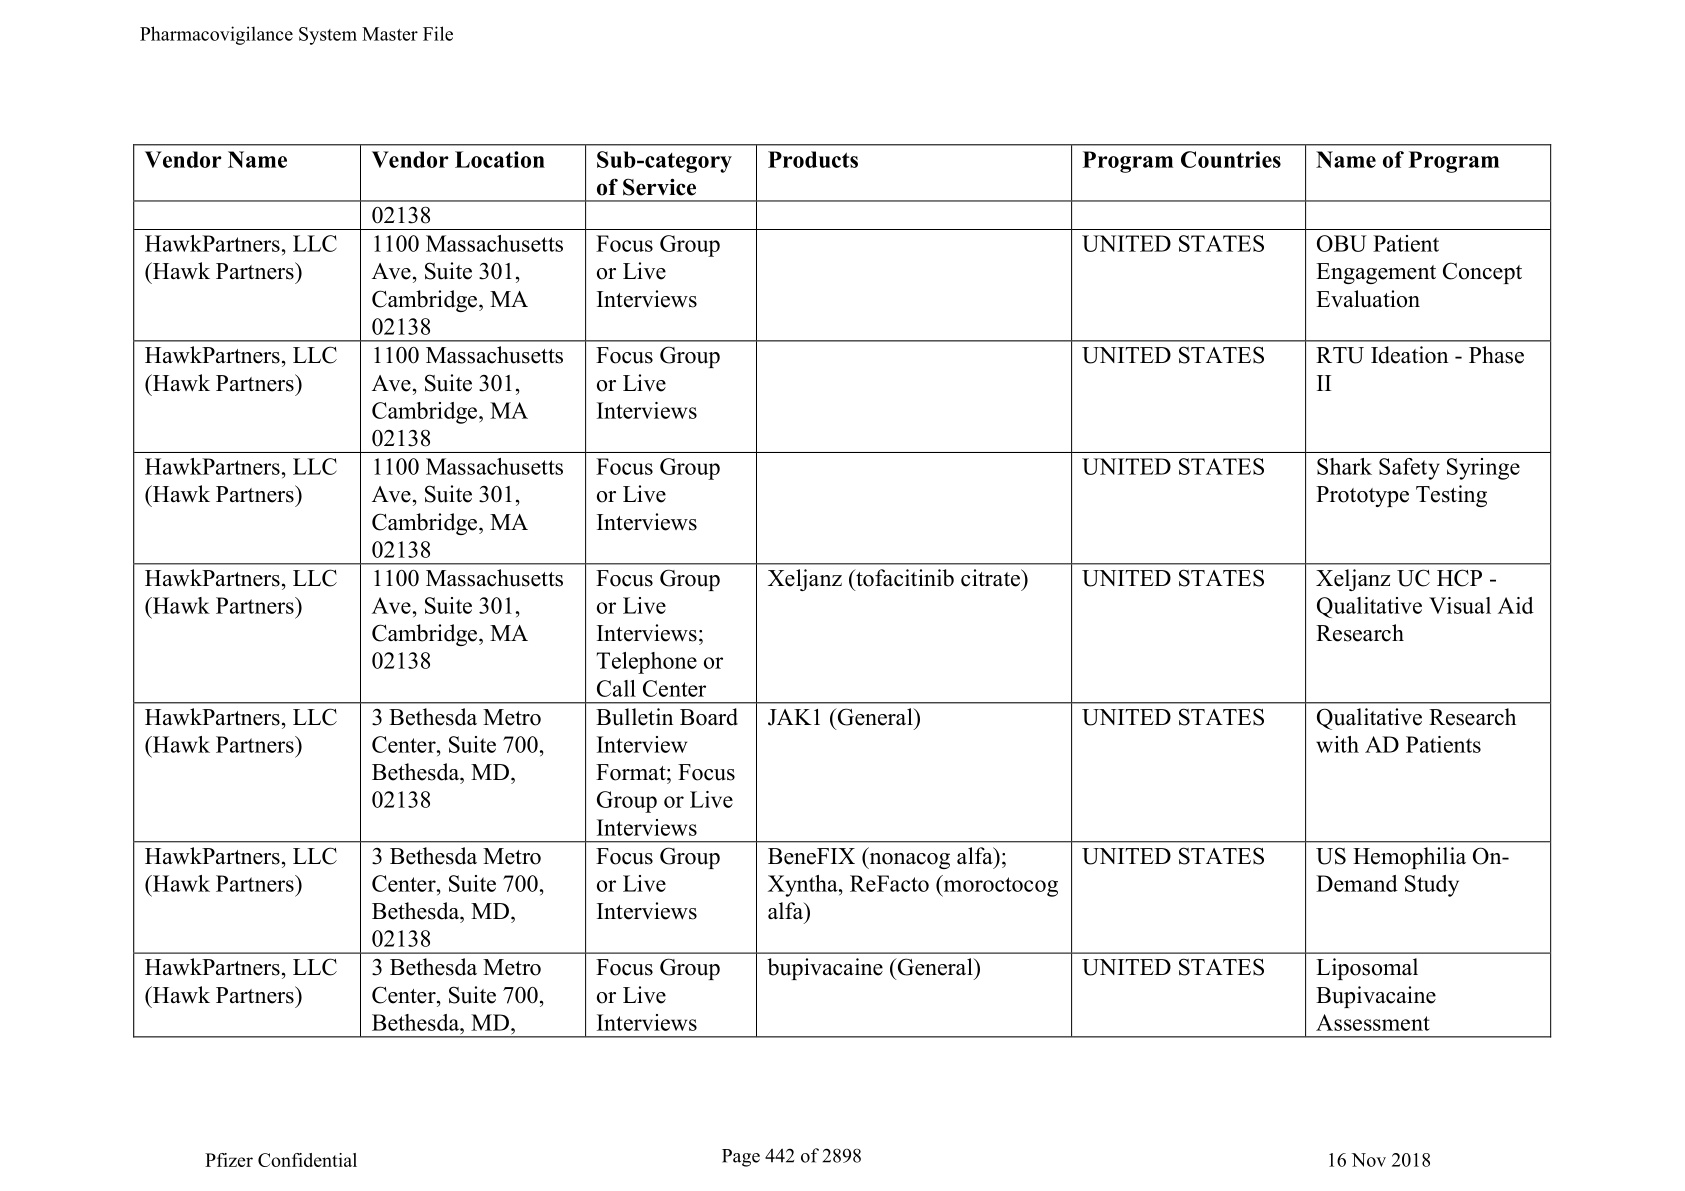full_lined: (122, 138, 1557, 1045)
